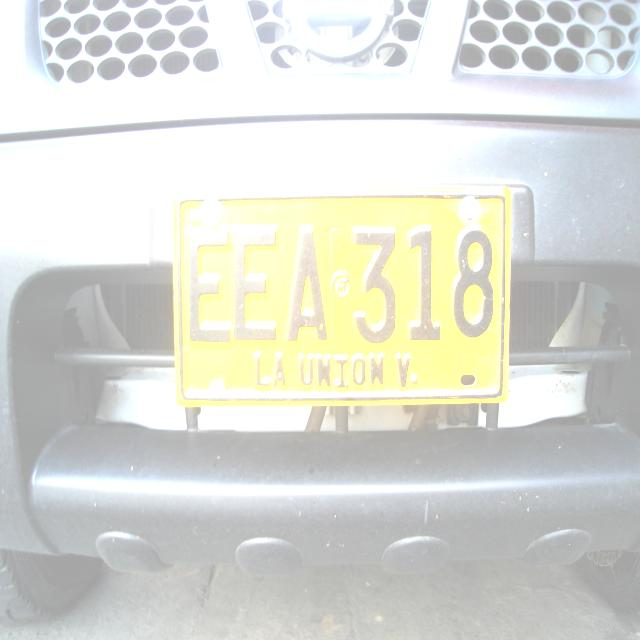placa: (167, 180, 518, 413)
